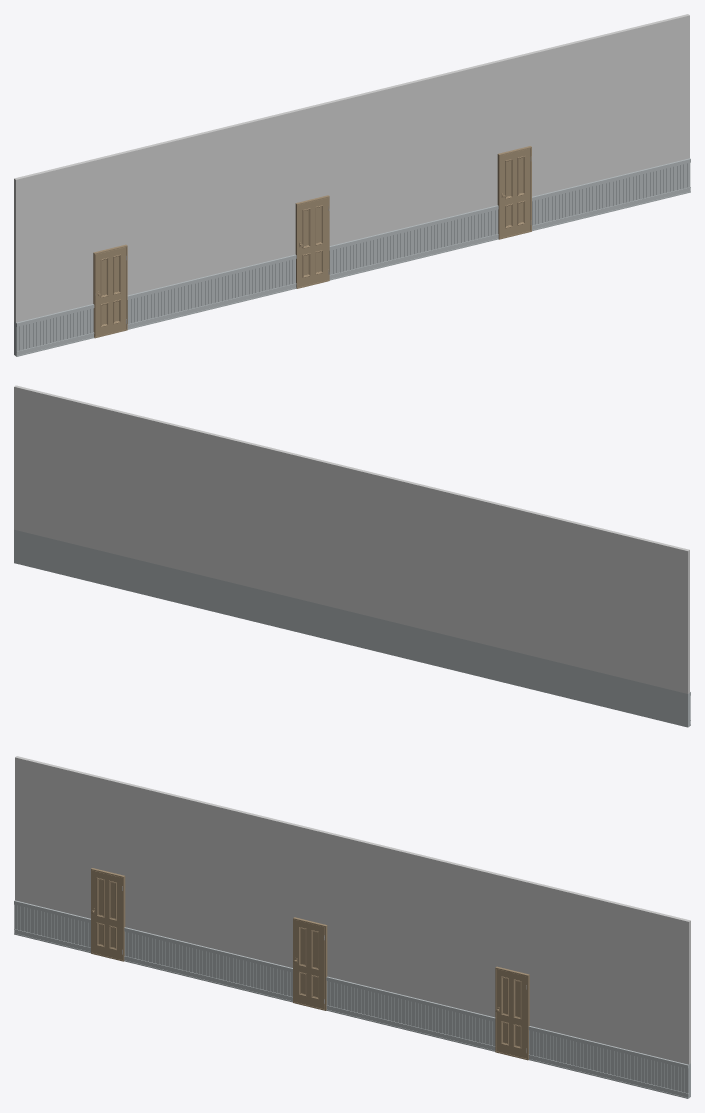
The model's file is 871_wall_with_waistwall_with_door.glb.
3 renders of one model, top to bottom at view 1: azimuth 30°, elevation 25°; view 2: azimuth 150°, elevation 25°; view 3: azimuth 330°, elevation 25°, orthographic.
Parts seen in each view (by area): view 1: Body, 戸1, 戸3, 戸2; view 2: Body; view 3: Body, 戸1, 戸2, 戸3.
Part boxes in pixels (x1,y1,x2,y2): Body: (14, 14, 690, 356); 戸1: (95, 247, 126, 336); 戸3: (500, 148, 531, 237); 戸2: (298, 197, 328, 287); Body: (14, 385, 690, 727); Body: (14, 756, 690, 1098); 戸1: (91, 870, 122, 959); 戸2: (293, 919, 324, 1009); 戸3: (495, 969, 526, 1058).
Bounding box in the file's own units: 20 × 5 × 0.2684.
